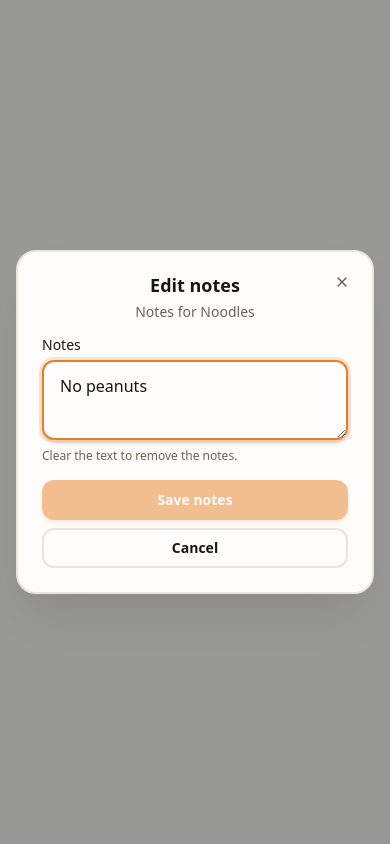
Test: food request notes editor › keeps the draft open after a conflict error
Replace the text in the text box with "Keep this draft": (195,400) [42,360,348,440]
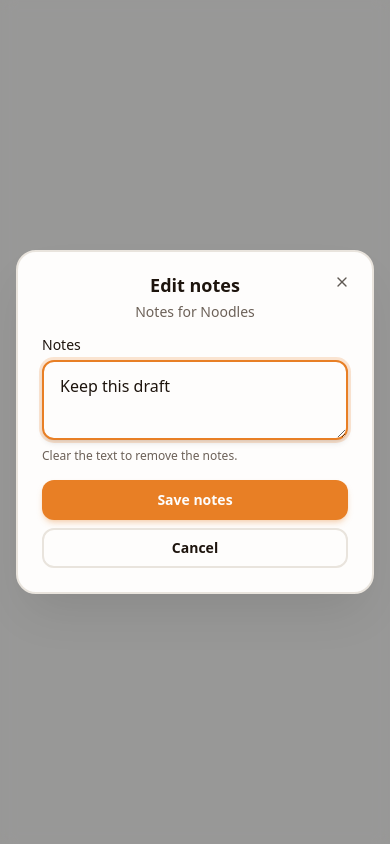
Click the button "Save notes": (195,500) [42,480,348,520]
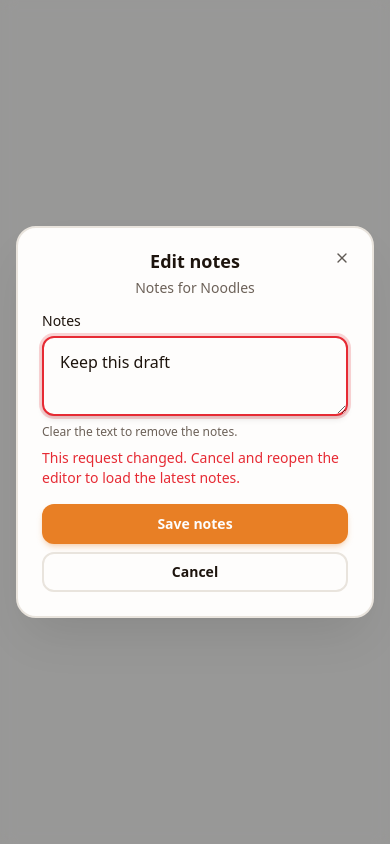
Expected: the message reads "This request changed. Cancel and reopen the editor to load the latest notes.", [42,448,339,487]
